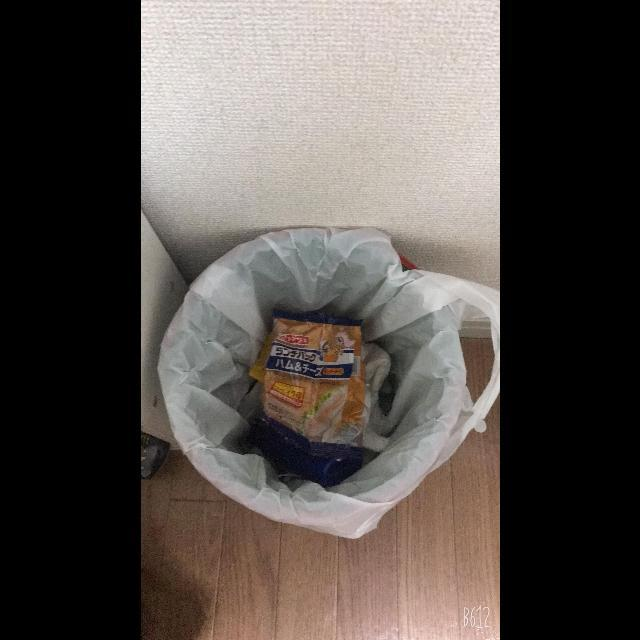plastic: (362, 343, 392, 455)
wrapper: (248, 311, 365, 488)
